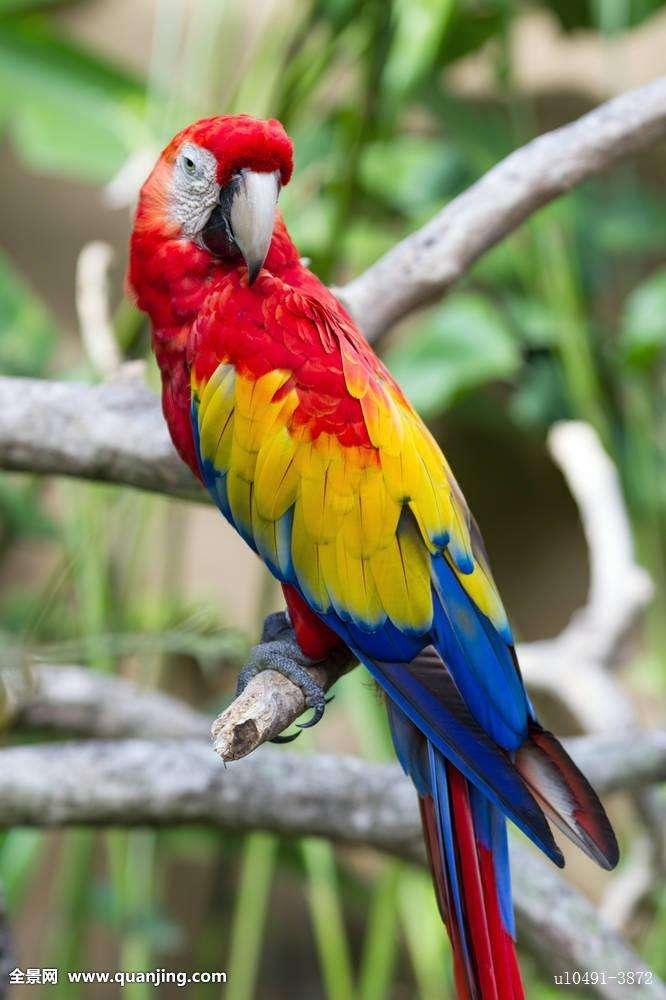bird: (132, 112, 523, 685)
